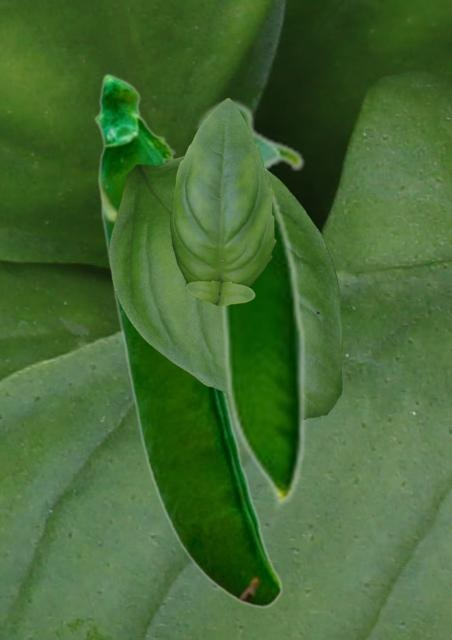pea: (94, 72, 281, 607), (195, 97, 306, 511)
